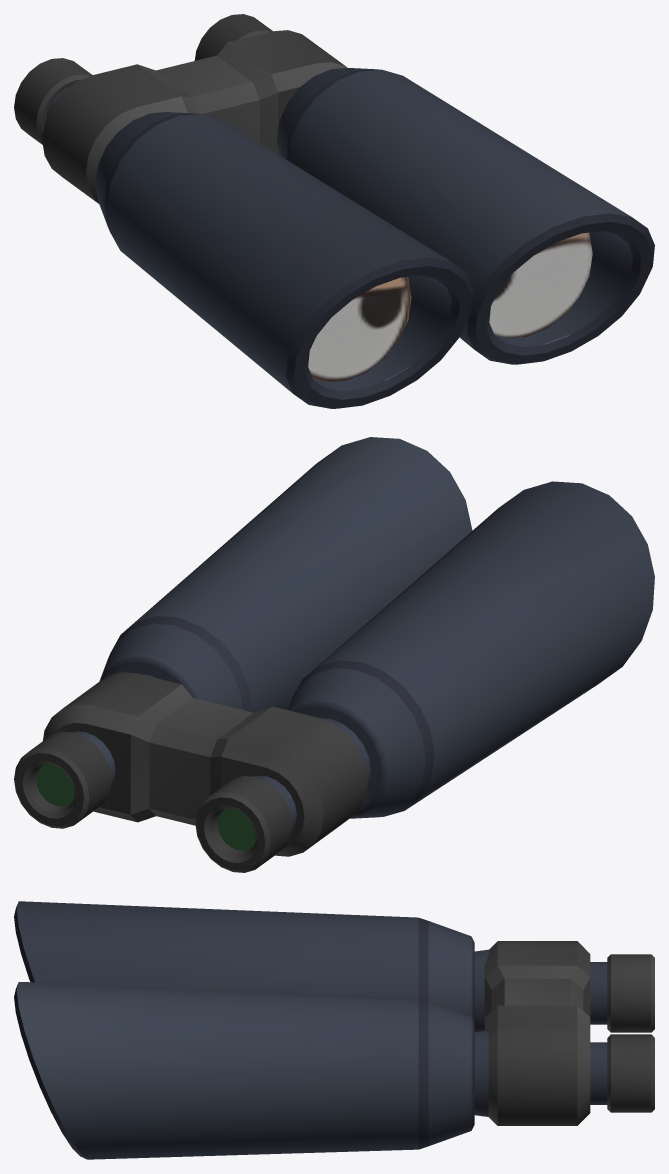
The model's file is Look_02.fbx.
3 views of the same model, one above another, from view 1: azimuth 30°, elevation 25°; view 2: azimuth 150°, elevation 25°; view 3: azimuth 270°, elevation 25° (orthographic). The views are drawn at different scales.
Parts seen in each view (by area): view 1: Look_02; view 2: Look_02; view 3: Look_02.
Boxes of the visible parts, x1,y1,x2,y2 form: Look_02: (14, 14, 654, 408); Look_02: (14, 437, 654, 872); Look_02: (14, 901, 654, 1159).
Bounding box in the file's own units: 76.67 × 35.33 × 128.
2 materials, 2 textured.
